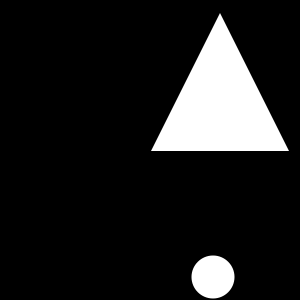rectangle: (192, 256, 234, 298)
triangle: (151, 13, 289, 151), (229, 48, 238, 57)
